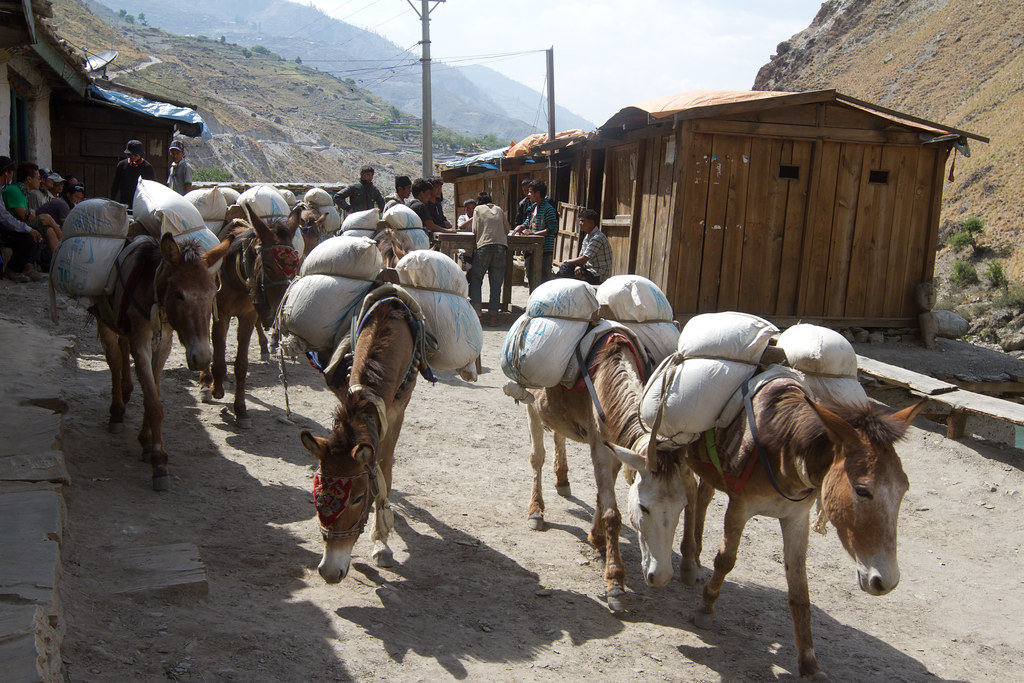equine: (653, 316, 945, 683), (263, 244, 473, 599), (499, 273, 703, 627), (62, 210, 236, 493), (192, 202, 310, 425)
human: (556, 200, 621, 290), (469, 188, 513, 316), (520, 179, 571, 289), (329, 156, 396, 233), (1, 143, 37, 273), (101, 129, 156, 213), (404, 176, 452, 249), (158, 123, 200, 202), (15, 154, 49, 248), (450, 192, 484, 241), (60, 175, 94, 221), (384, 176, 415, 214), (46, 166, 67, 209)
